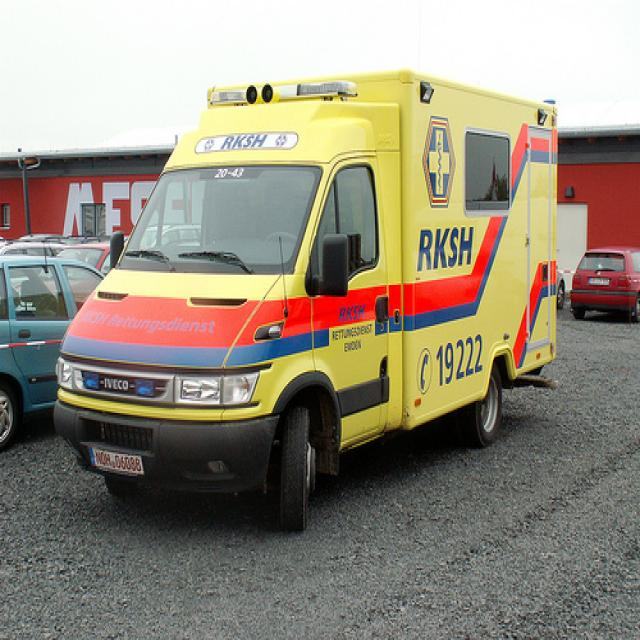emergency-vehicle: (63, 80, 553, 512)
